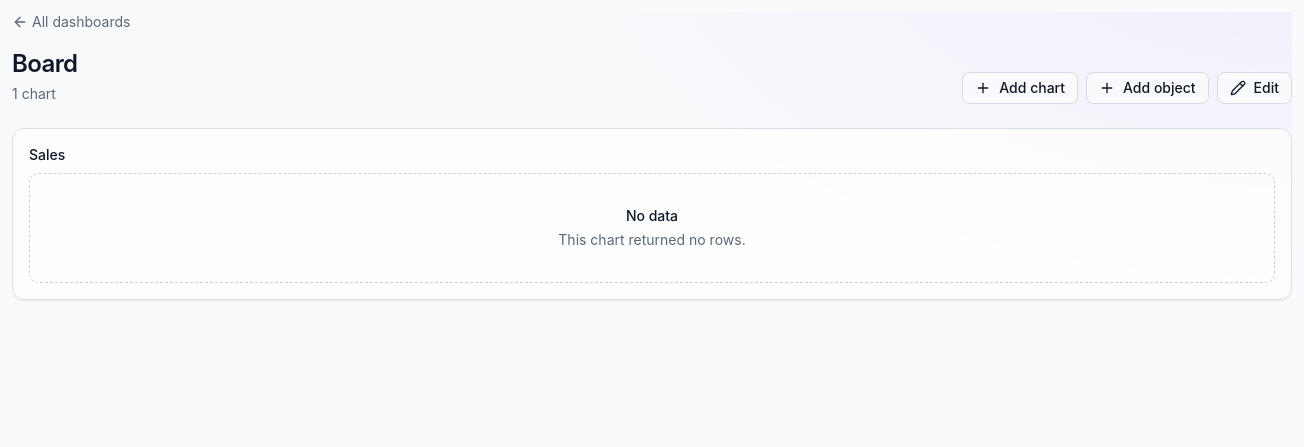
Test: DashboardDetail native filters › shows Add filter button in edit mode even when native_filters is empty
// Enter edit mode via the PageHeader "Edit" button
Click the button "Edit" at [1254, 88], box [1217,72,1292,104]
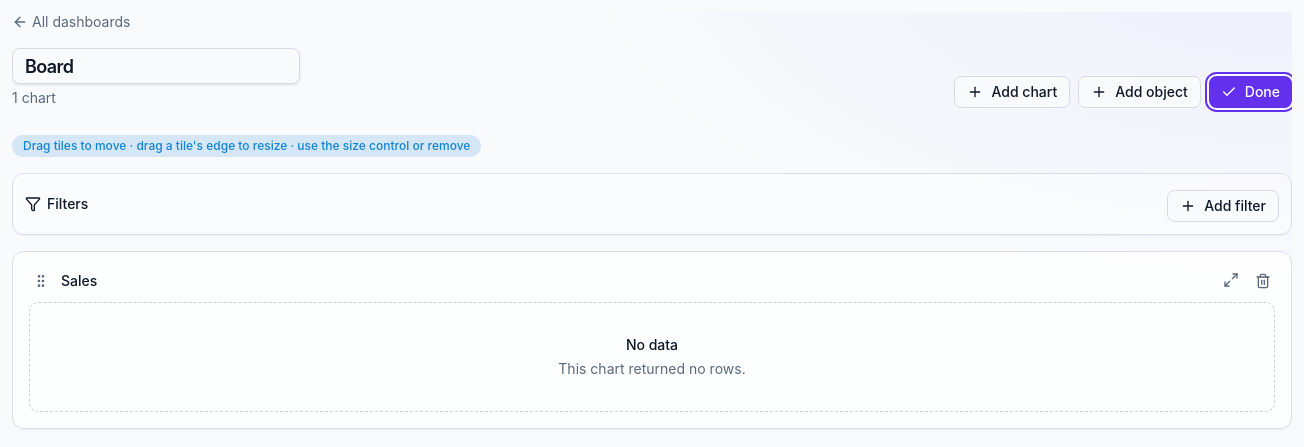
Expected: the button "Add filter" is shown, [1167,190,1279,222]
